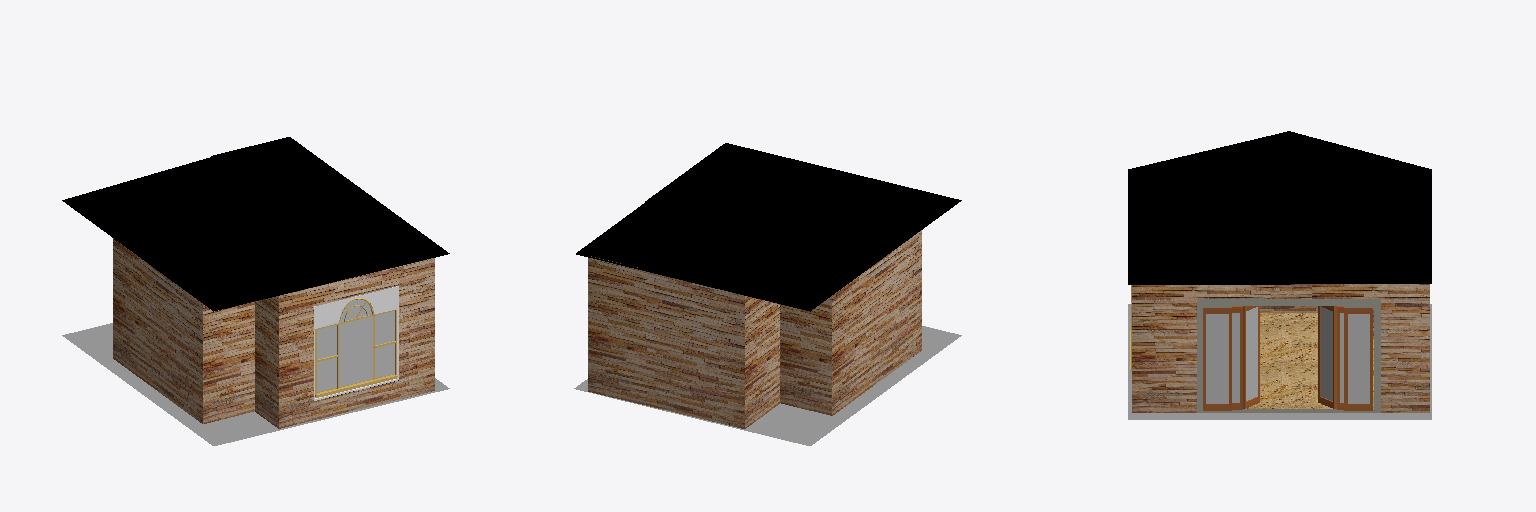
3 views of the same model, side by side, from view 1: azimuth 30°, elevation 25°; view 2: azimuth 150°, elevation 25°; view 3: azimuth 270°, elevation 25° (orthographic).
Visible parts, largest first — view 1: polySurface3; view 2: polySurface3; view 3: polySurface3.
Boxes of the visible parts, x1,y1,x2,y2 form: polySurface3: [62, 137, 449, 445]; polySurface3: [574, 143, 961, 445]; polySurface3: [1128, 131, 1431, 419].
Size of the model in its own units: 26.52 by 22.73 by 29.5.
10 materials, 2 textured.